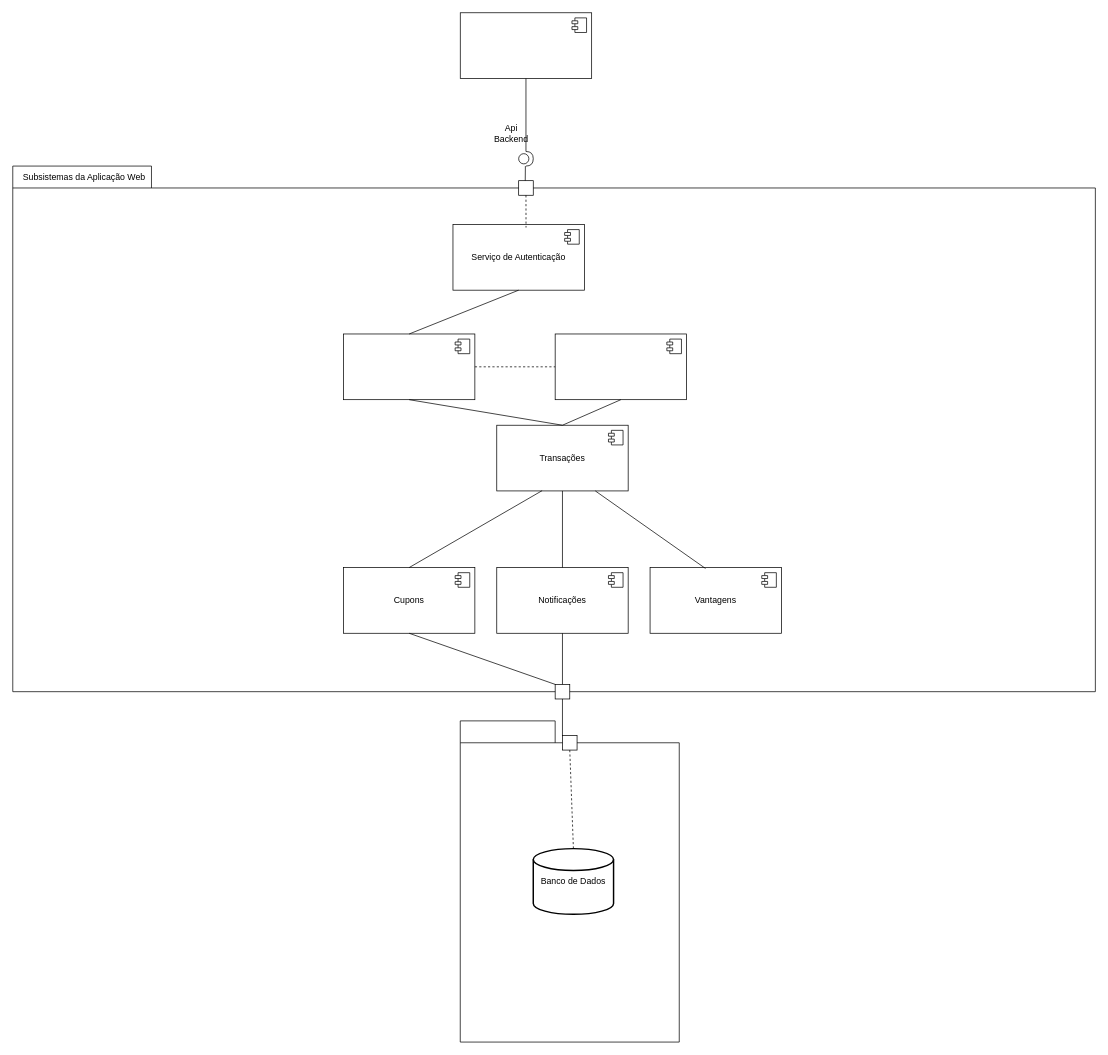
Image size: 1108x1055. Some labels were removed from this diagram. The centre of each missing label's shape, as x and y in pixels:
"Frontend" belongs at (x=526, y=45).
"Moeda" belongs at (x=620, y=366).
"Usuários" belongs at (x=409, y=366).
